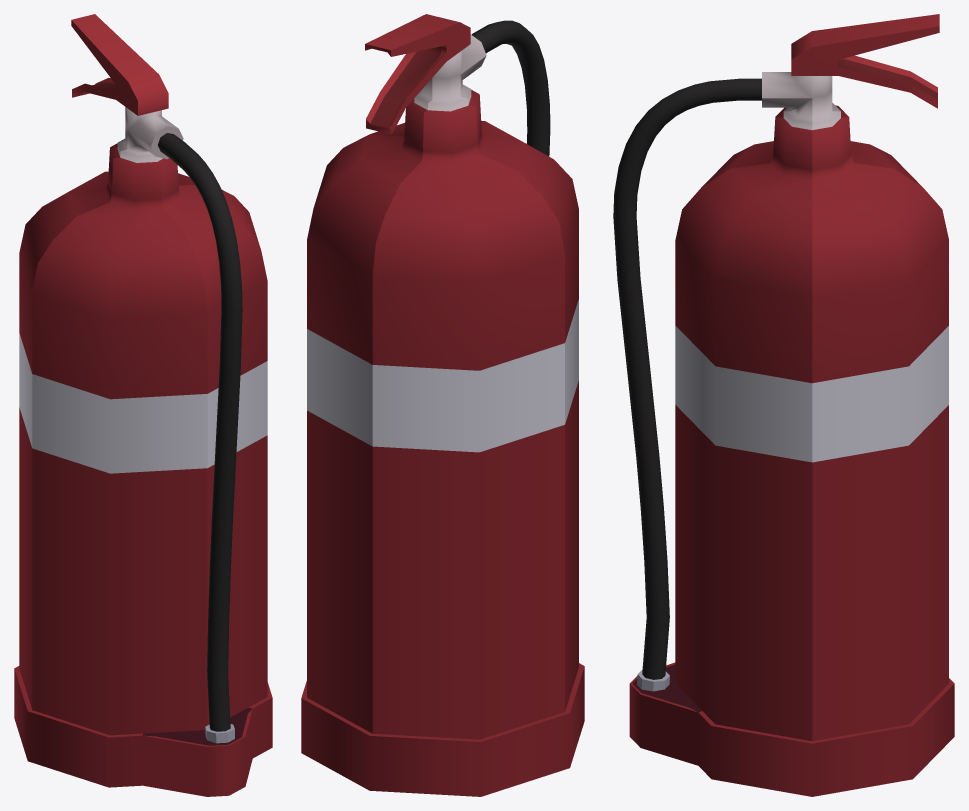
File: FireExtinguisher-Big_01.fbx
3 views of the same model, side by side, from view 1: azimuth 30°, elevation 25°; view 2: azimuth 150°, elevation 25°; view 3: azimuth 270°, elevation 25° (orthographic). The views are drawn at different scales.
Visible parts, largest first — view 1: Fire_Extinguisher_Big; view 2: Fire_Extinguisher_Big; view 3: Fire_Extinguisher_Big.
Boxes of the visible parts, bbox=[...] form: Fire_Extinguisher_Big: bbox=[14, 14, 272, 796]; Fire_Extinguisher_Big: bbox=[301, 14, 584, 796]; Fire_Extinguisher_Big: bbox=[613, 14, 954, 796].
Size of the model in its own units: 0.2556 by 0.7096 by 0.3064.
